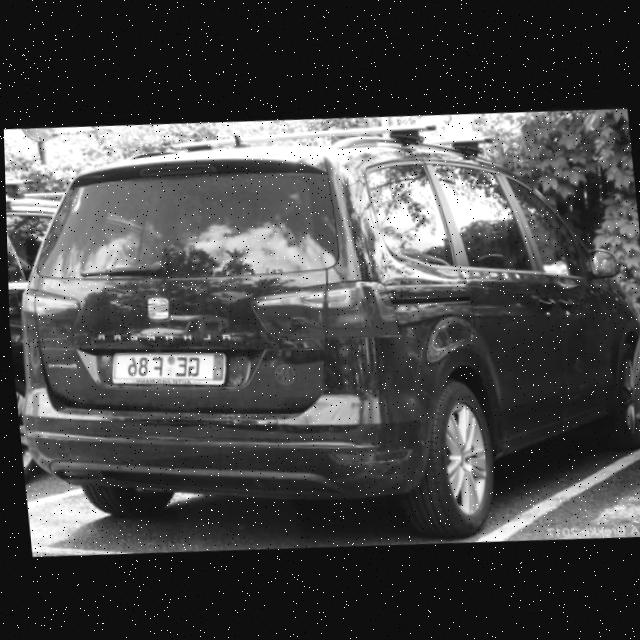license-plates: (111, 354, 225, 386)
